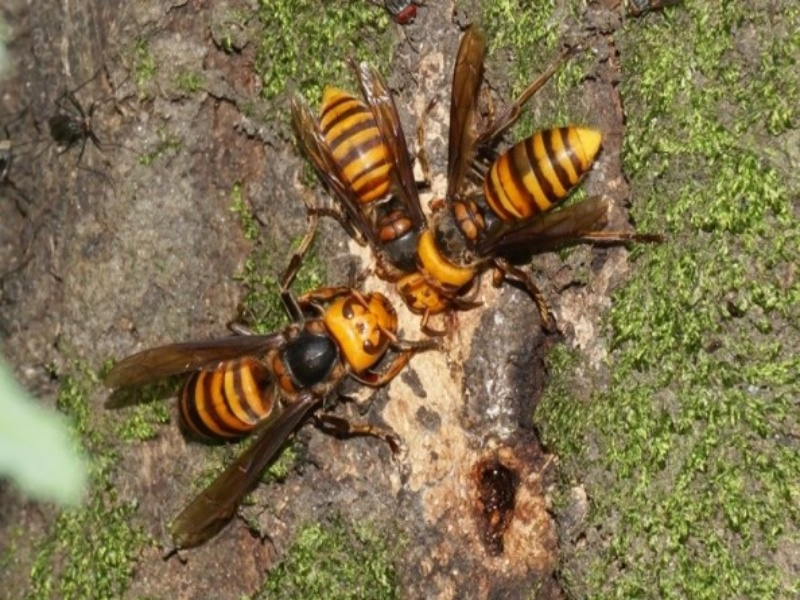asian_giant_hornet: (299, 66, 463, 318), (174, 282, 409, 453), (415, 105, 617, 291)
